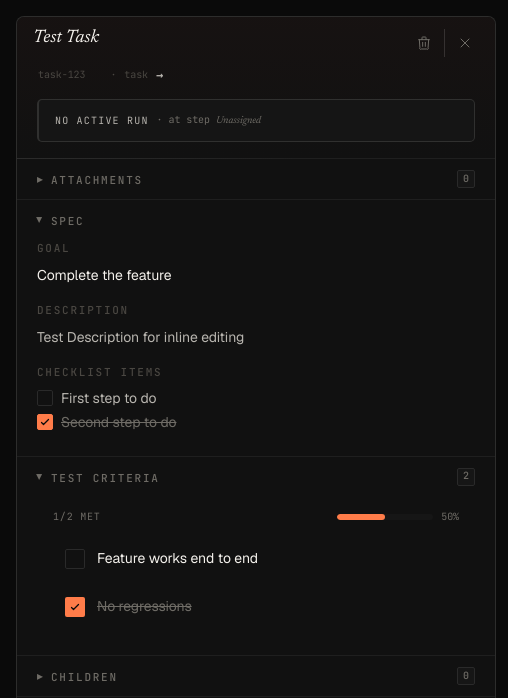
Scenario: TaskDetailPanel - Inline Editing Integration › Details section - Inline editing UX › clicking description shows input immediately with warning dot and check/X icons
The width and height of the screenshot is (508, 698).
Click the text "Test Description for inline editing".
click(141, 337)  # box [37,328,244,346]
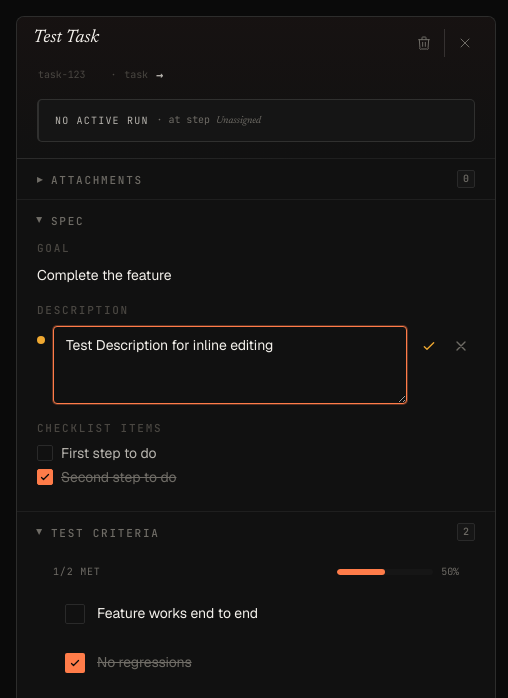
Now the text box holds "Test Description for inline editing", box [53,326,407,404]
Now the button named "save" is shown, box [415,332,443,360]
Now the button named "cancel" is shown, box [447,332,475,360]
